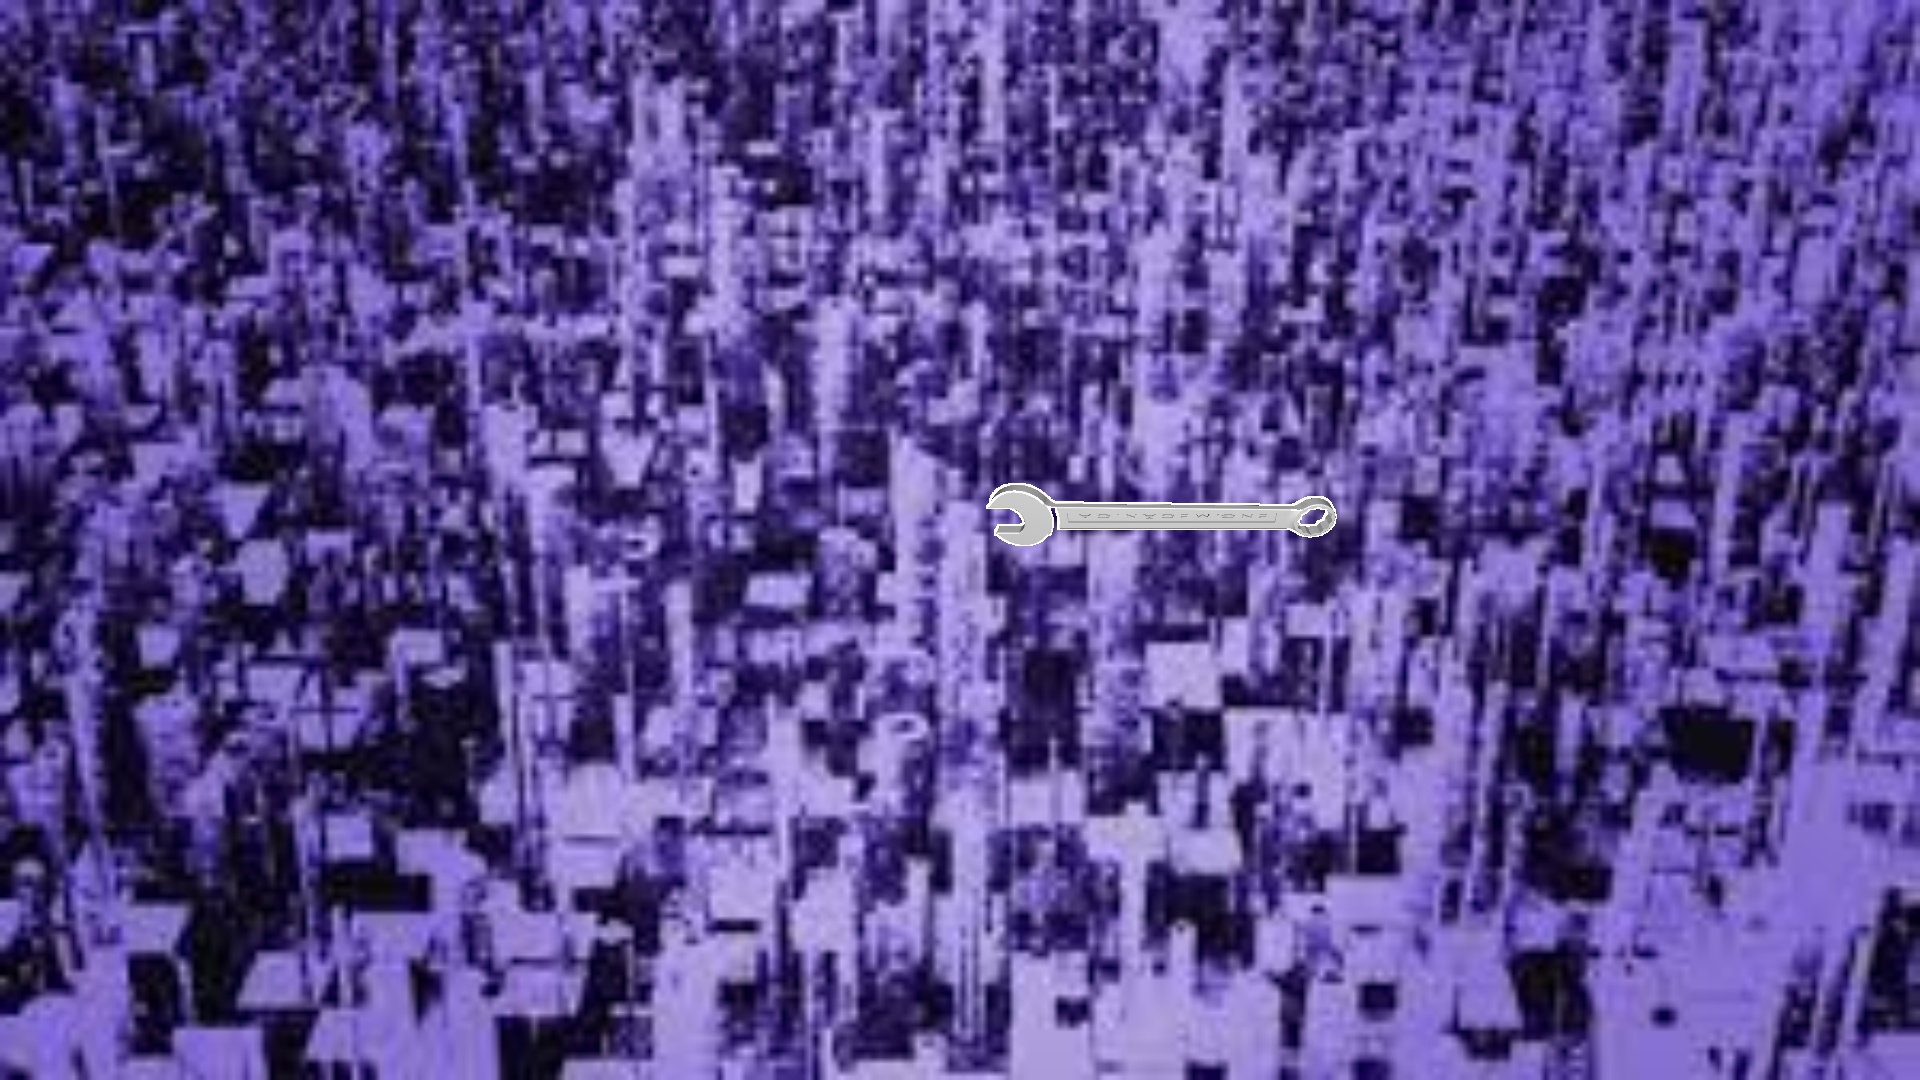Mixed Key: (986, 483, 1336, 545)
